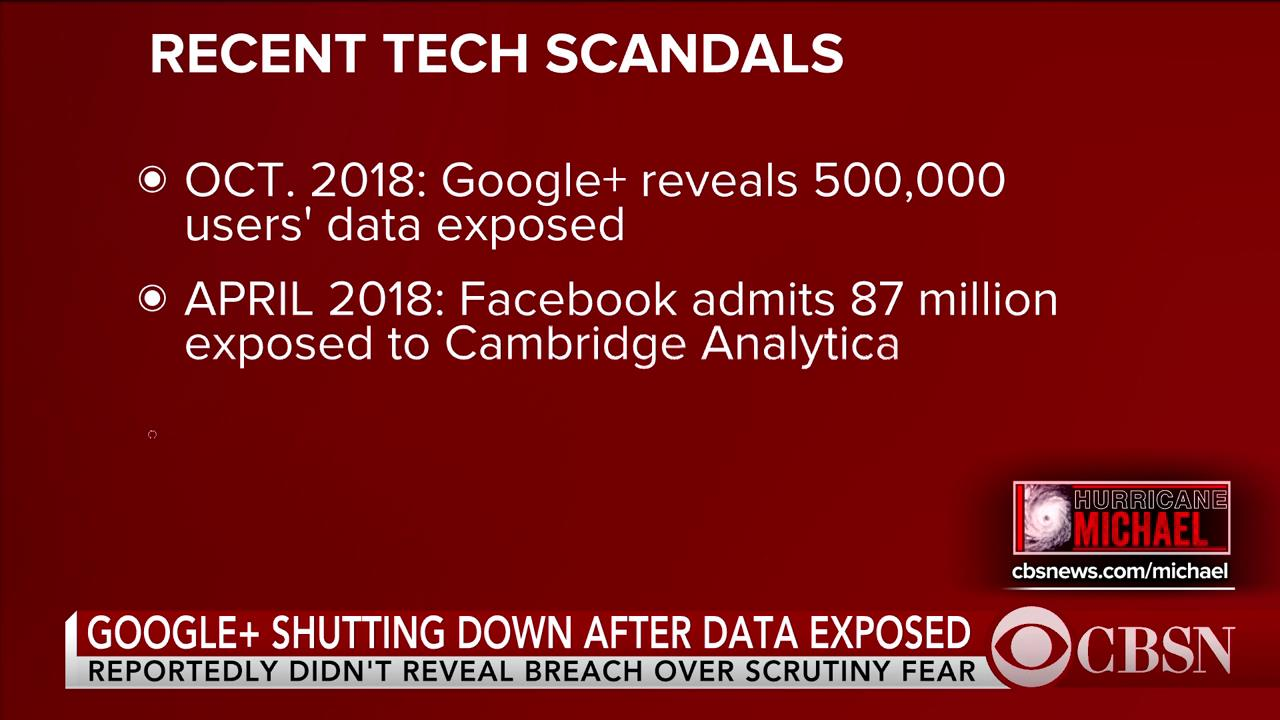APRIL 2018: Facebook admits 87 milion: (183, 279, 1059, 321)
CBSN: (1073, 622, 1238, 677)
GOOGLE+ SHUTTING DOWN AFTER DATA EXPOSED: (86, 611, 976, 652)
HURRICANE: (1073, 486, 1227, 511)
MICHAEL: (1072, 509, 1206, 548)
OCT. 2018: GOOGLE+ reveals 500,000: (187, 159, 1006, 207)
RECENT TECH SCANDALS: (150, 30, 846, 78)
REPORTEDLY DIDN'T REVEAL BREACH OVER SCRUTINY FEAR: (87, 655, 976, 686)
cbsnews.com/michael: (1010, 561, 1231, 582)
exposed to Cambridge Analytica: (182, 328, 904, 372)
users's data exposed: (185, 206, 630, 250)
